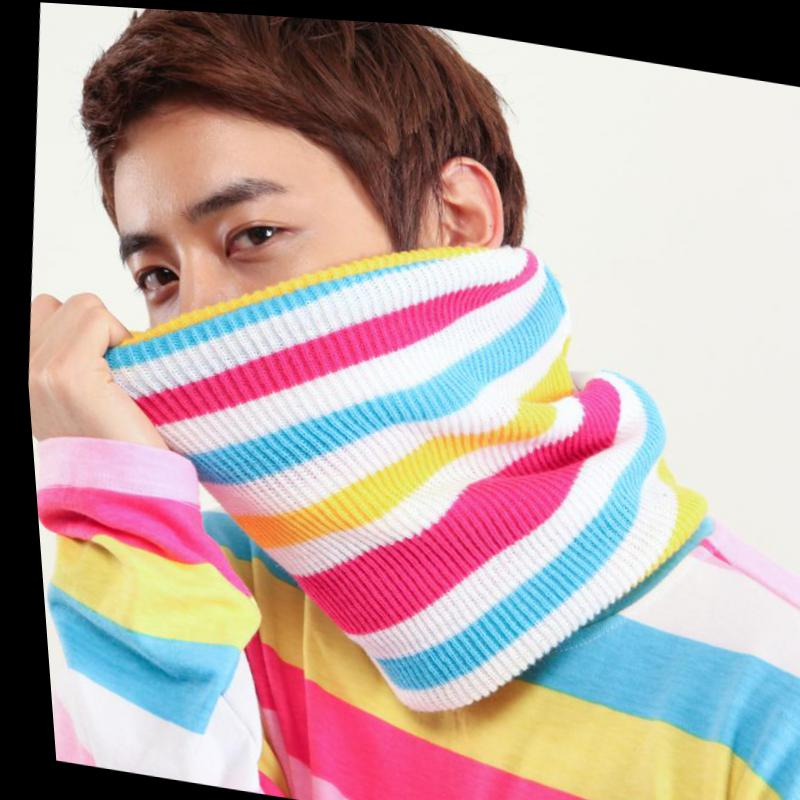WRONG: (77, 133, 426, 479)
